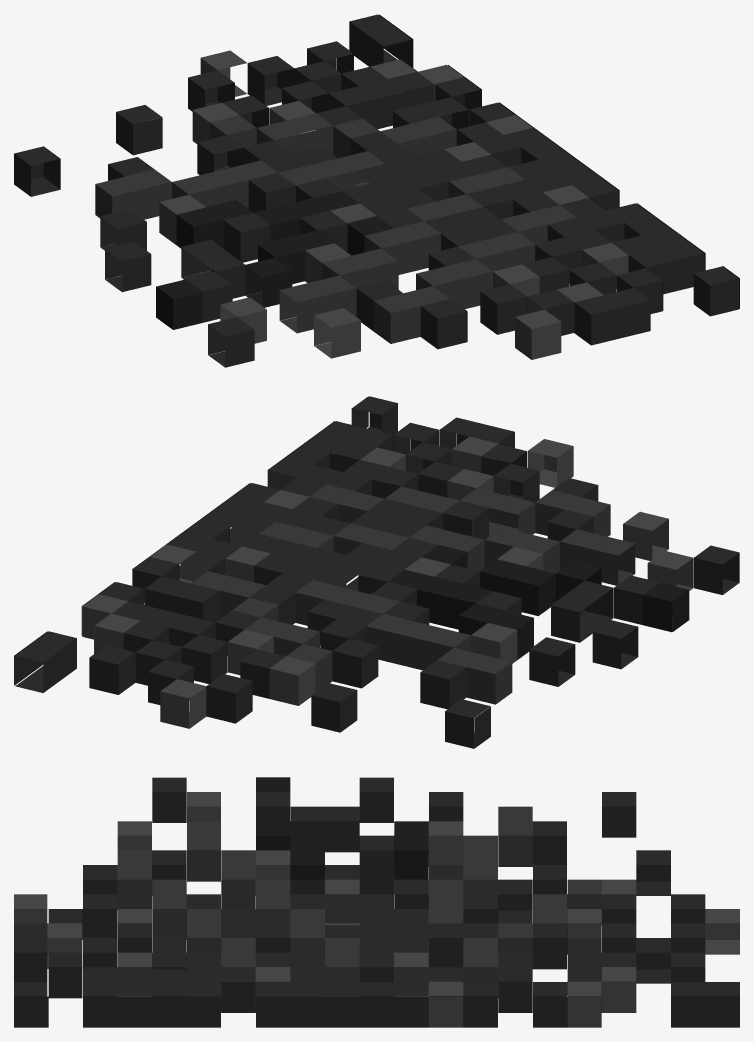
File: scorchmark_1.gltf
3 renders of one model, top to bottom at view 1: azimuth 30°, elevation 25°; view 2: azimuth 150°, elevation 25°; view 3: azimuth 270°, elevation 25°, orthographic. The views are drawn at different scales.
Visible parts, largest first — view 1: scorchmark_1; view 2: scorchmark_1; view 3: scorchmark_1.
Part boxes in pixels (x1,y1,x2,y2): scorchmark_1: (14, 14, 739, 367); scorchmark_1: (14, 396, 739, 748); scorchmark_1: (14, 777, 739, 1027).
Bounding box in the file's own units: 1.43 × 0.0946 × 2.
Materials: 1 (1 with a texture image).
